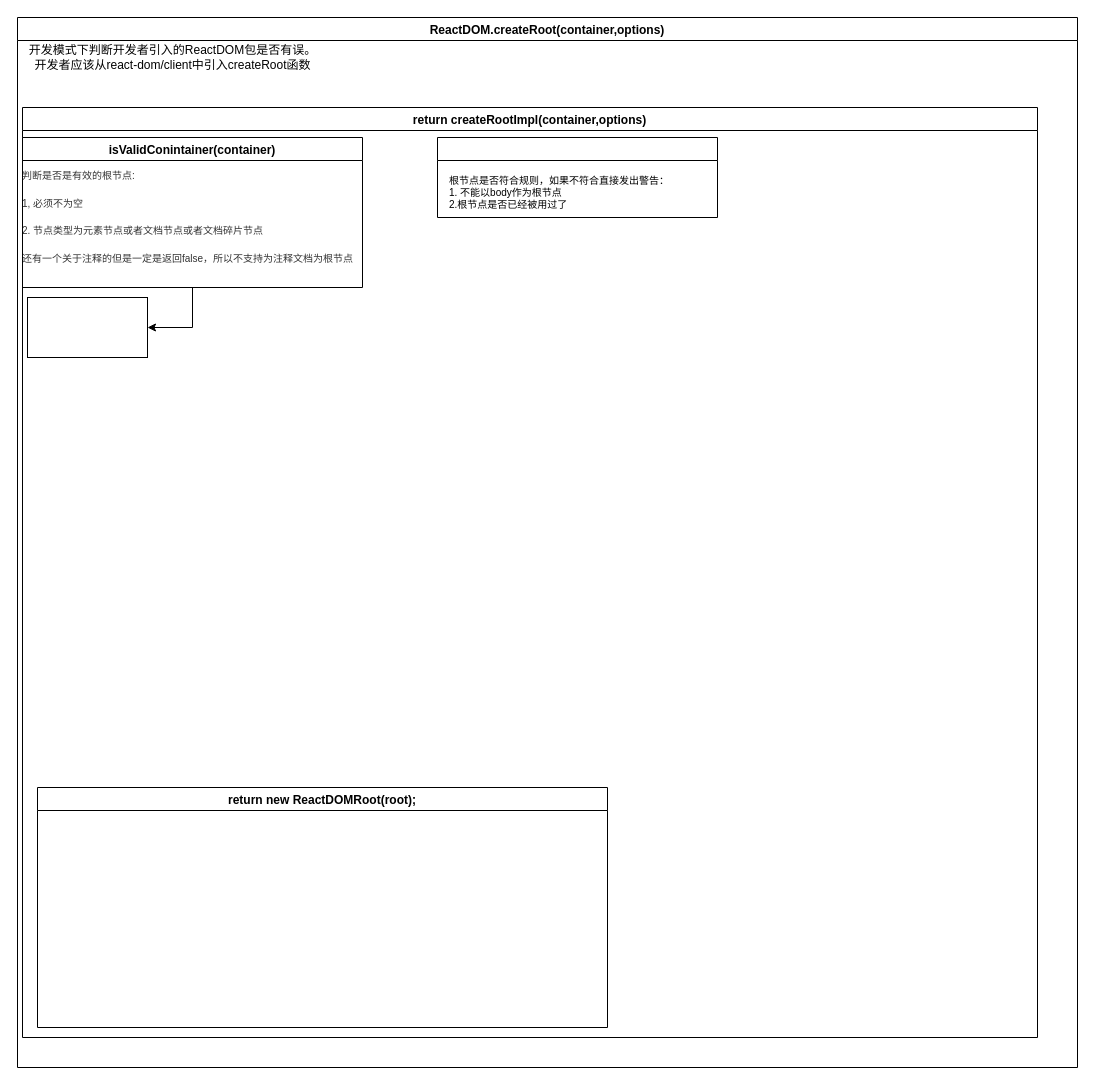
Some shapes in this 1095 by 1085 pixel diagram are drawn without their labels. Each missing label, with the box of its shape:
warnIfReactDOMContainerInDev(container): (436, 136, 718, 218)
如果结果为false，抛出错误: (26, 296, 148, 358)
